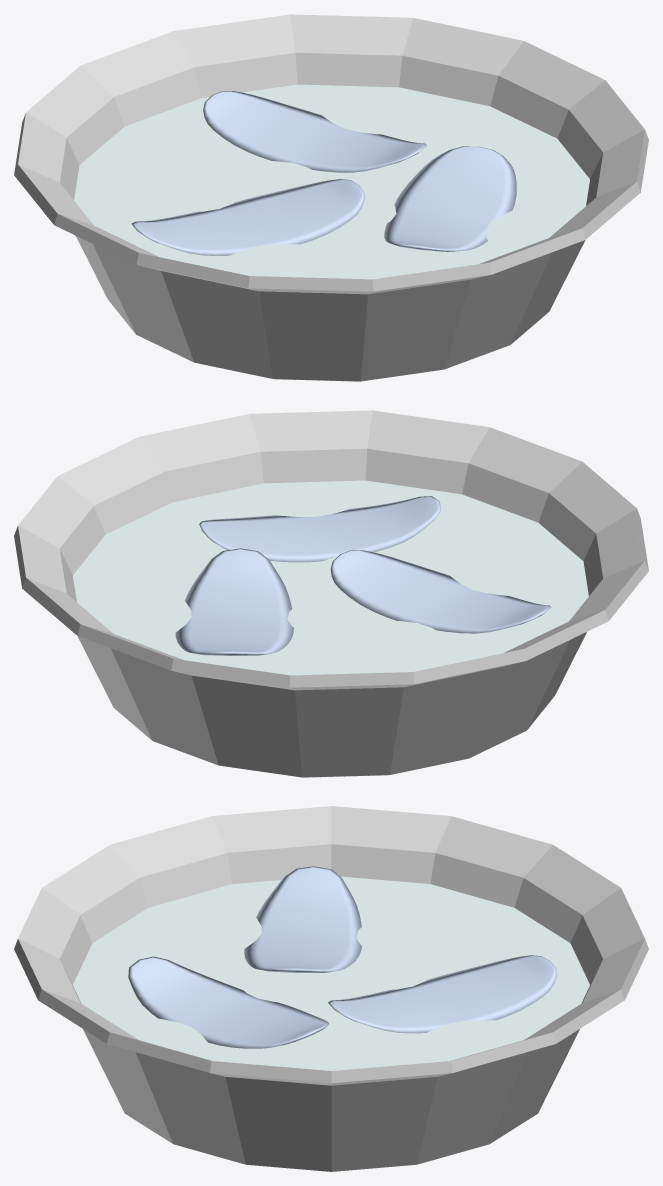
Rendered from BluePetalSoup.fbx.
The picture shows the model from 3 angles, top to bottom: view 1: azimuth 30°, elevation 25°; view 2: azimuth 150°, elevation 25°; view 3: azimuth 270°, elevation 25°; orthographic projection.
Parts seen in each view (by area): view 1: Bowl.002, Water.007, Petel.061, Petel.060, Petel.062; view 2: Bowl.002, Water.007, Petel.060, Petel.062, Petel.061; view 3: Bowl.002, Water.007, Petel.062, Petel.061, Petel.060.
Boxes of the visible parts, bbox=[...] form: Bowl.002: bbox=[14, 14, 648, 381]; Water.007: bbox=[74, 84, 589, 279]; Petel.061: bbox=[384, 146, 516, 251]; Petel.060: bbox=[131, 179, 364, 255]; Petel.062: bbox=[203, 91, 426, 172]; Bowl.002: bbox=[14, 410, 648, 777]; Water.007: bbox=[73, 480, 588, 675]; Petel.060: bbox=[330, 550, 551, 633]; Petel.062: bbox=[175, 548, 293, 655]; Petel.061: bbox=[199, 496, 441, 562]; Bowl.002: bbox=[14, 806, 648, 1171]; Water.007: bbox=[73, 876, 589, 1070]; Petel.062: bbox=[328, 955, 556, 1033]; Petel.061: bbox=[128, 956, 328, 1048]; Petel.060: bbox=[244, 866, 361, 972].
Bounding box in the file's own units: 59.99 × 15.96 × 59.99.
